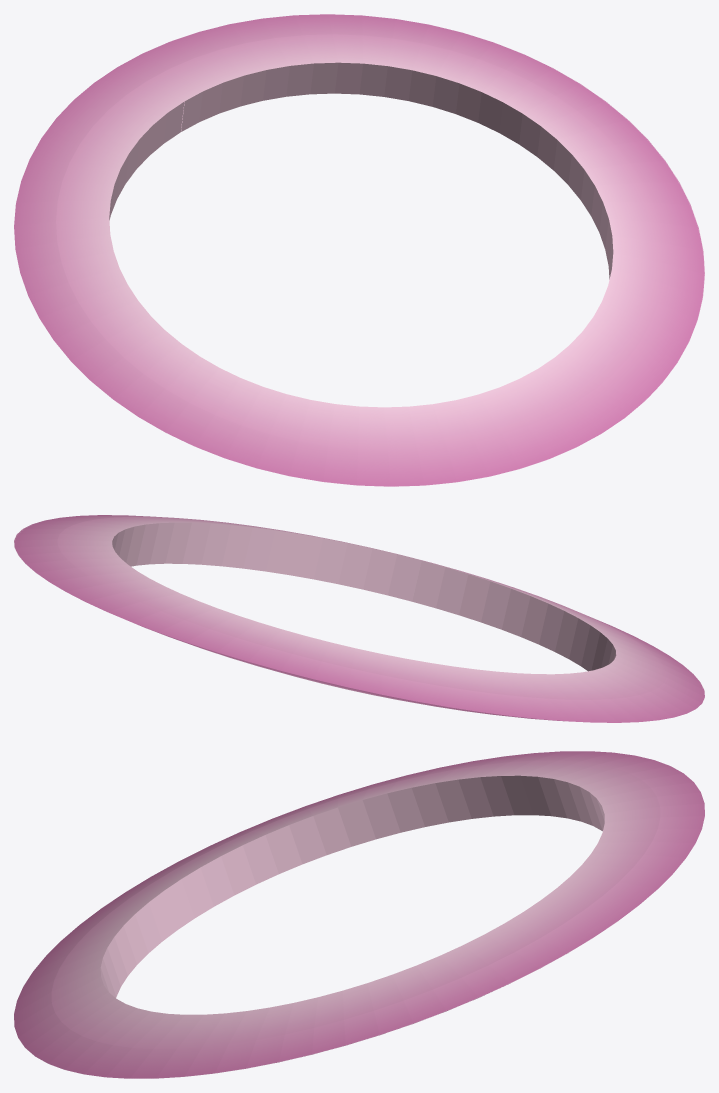
File: ring1-1.fbx
3 renders of one model, top to bottom at view 1: azimuth 30°, elevation 25°; view 2: azimuth 150°, elevation 25°; view 3: azimuth 270°, elevation 25°, orthographic. The views are drawn at different scales.
Visible parts, largest first — view 1: ring1.001; view 2: ring1.001; view 3: ring1.001.
Boxes of the visible parts, bbox=[...] form: ring1.001: bbox=[14, 14, 704, 486]; ring1.001: bbox=[14, 515, 704, 722]; ring1.001: bbox=[14, 751, 704, 1078].
Size of the model in its own units: 398 by 126 by 380.
